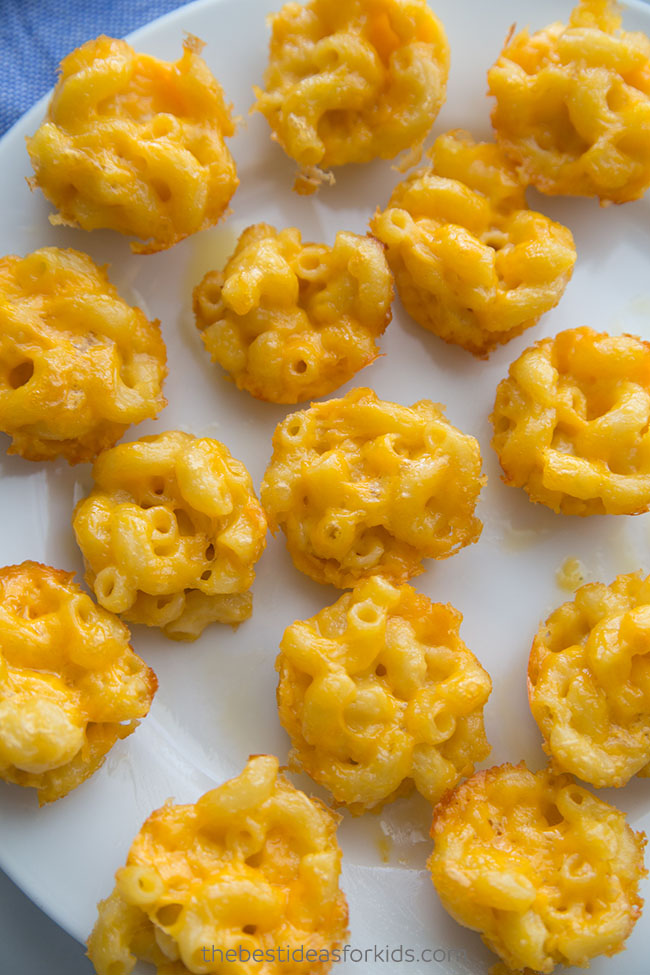cheese: (114, 767, 423, 953), (1, 241, 204, 466), (45, 28, 246, 238), (78, 441, 255, 645), (395, 171, 556, 335), (228, 230, 378, 386), (289, 400, 441, 535)
